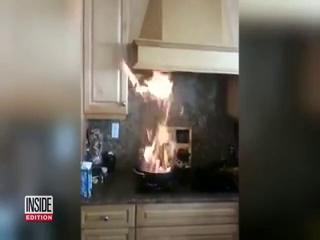Fire: (136, 90, 182, 176)
